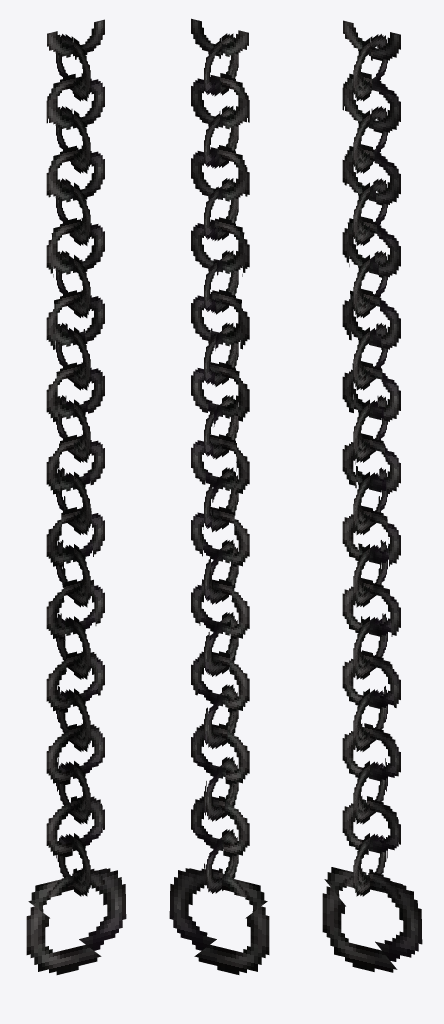
Rendered from NW_MISC_CHAIN_01.glb.
The picture shows the model from 3 angles, left to right: view 1: azimuth 30°, elevation 25°; view 2: azimuth 150°, elevation 25°; view 3: azimuth 330°, elevation 25°; orthographic projection.
Visible parts, largest first — view 1: Mesh; view 2: Mesh; view 3: Mesh.
Boxes of the visible parts, bbox=[...] form: Mesh: bbox=[26, 19, 126, 974]; Mesh: bbox=[169, 18, 269, 974]; Mesh: bbox=[322, 20, 422, 972].
Bounding box in the file's own units: 0.3999 × 3.09 × 0.2.
Materials: 1 (1 with a texture image).
